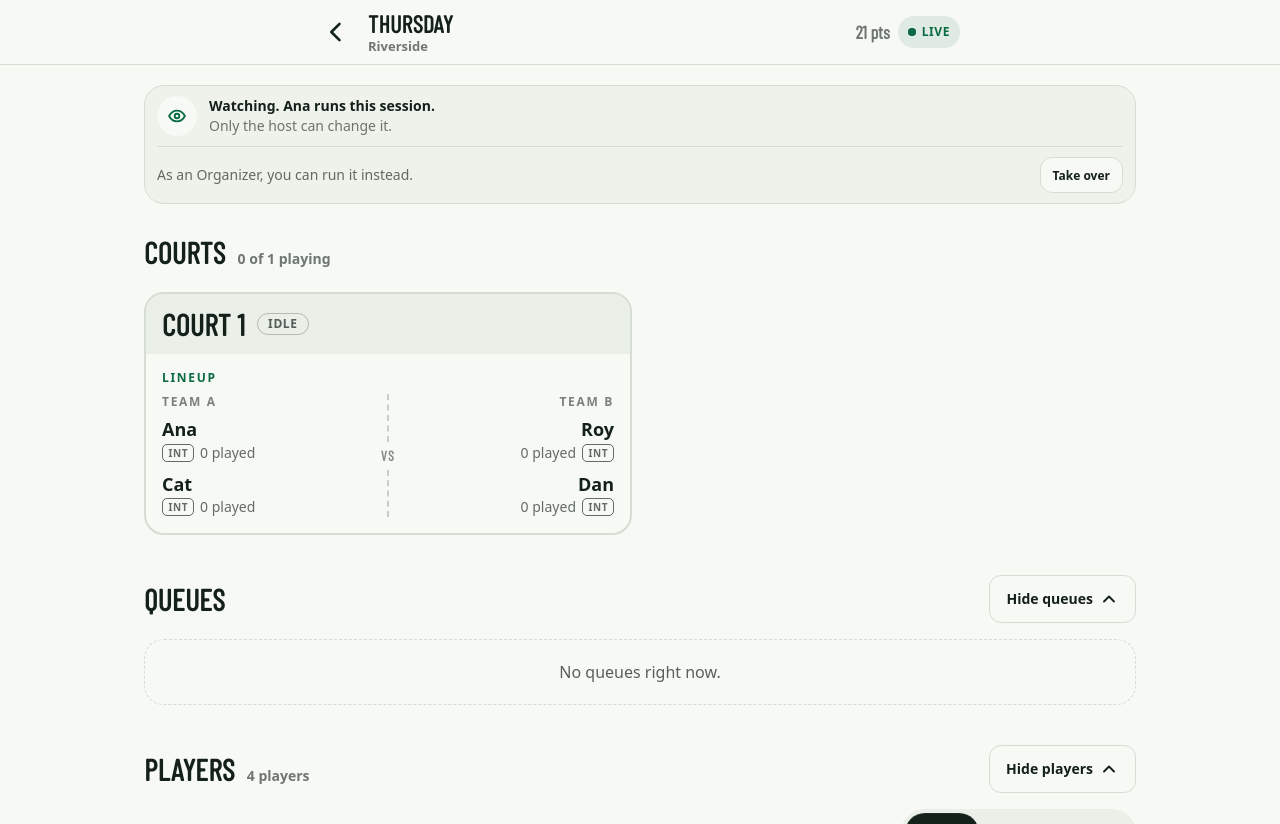
it: Take over › makes this Account the host straight away, with every control back
expect the button "Start match" is not shown: met
Click the button "Take over": (1081, 175) [1040,157,1123,193]
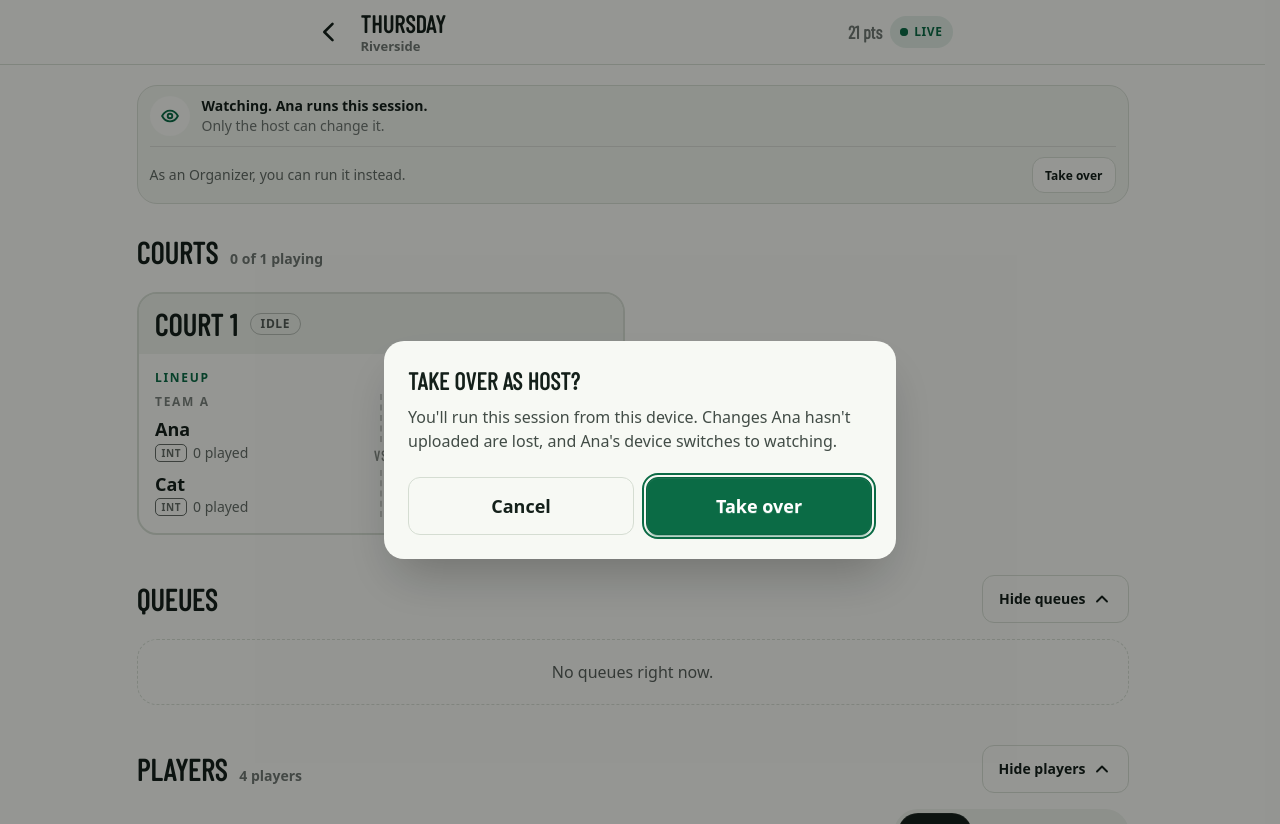
Click the button "Take over": (759, 506) [646,477,872,535]
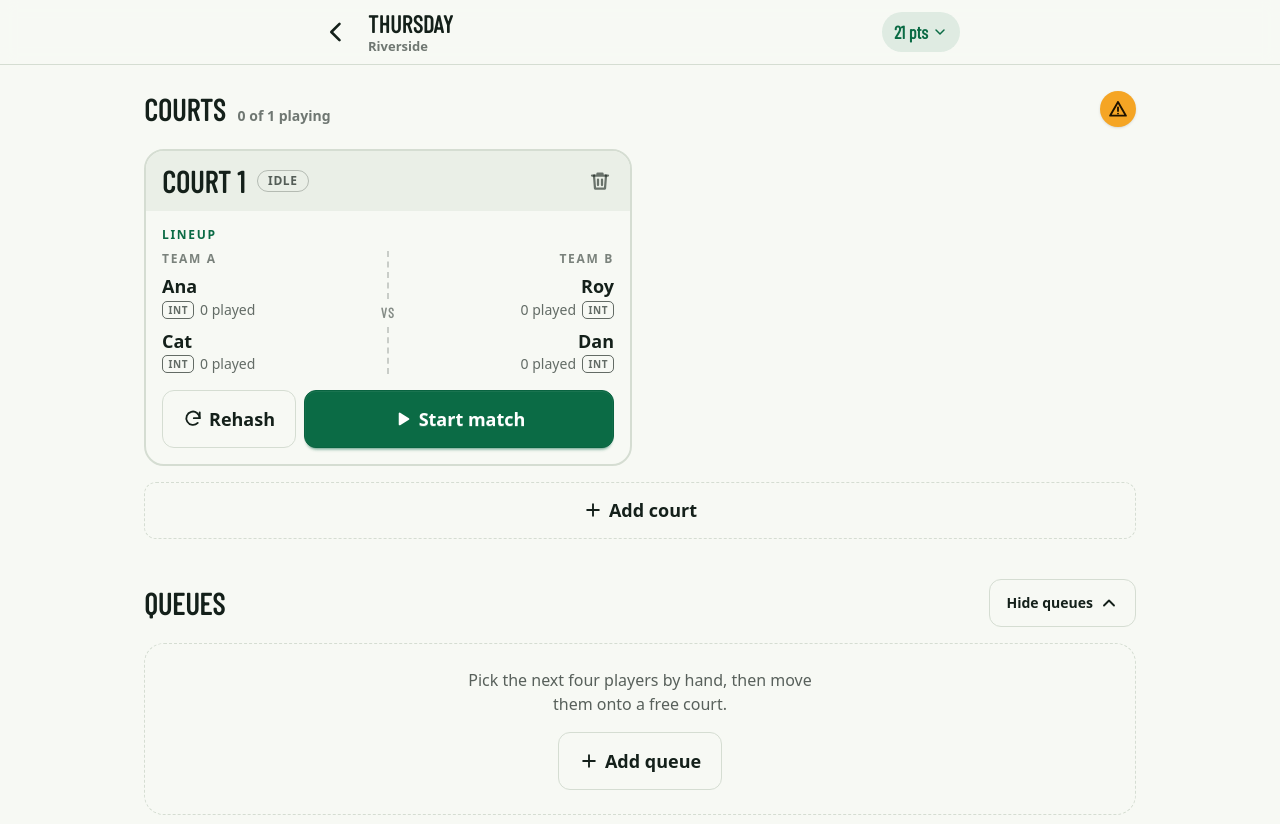
expect the text "Roy" is shown: met, box [581,275,614,298]
expect the button "Start match" is shown: met, box [304,390,614,448]
expect the text "Watching." is gone: met
